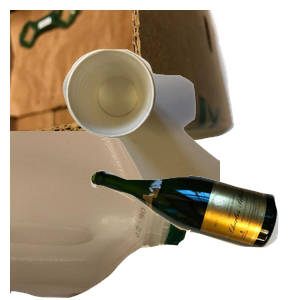cardboard: (10, 10, 237, 158)
glass: (88, 167, 300, 300)
plastic: (10, 131, 196, 300)
trash: (60, 47, 300, 227)
